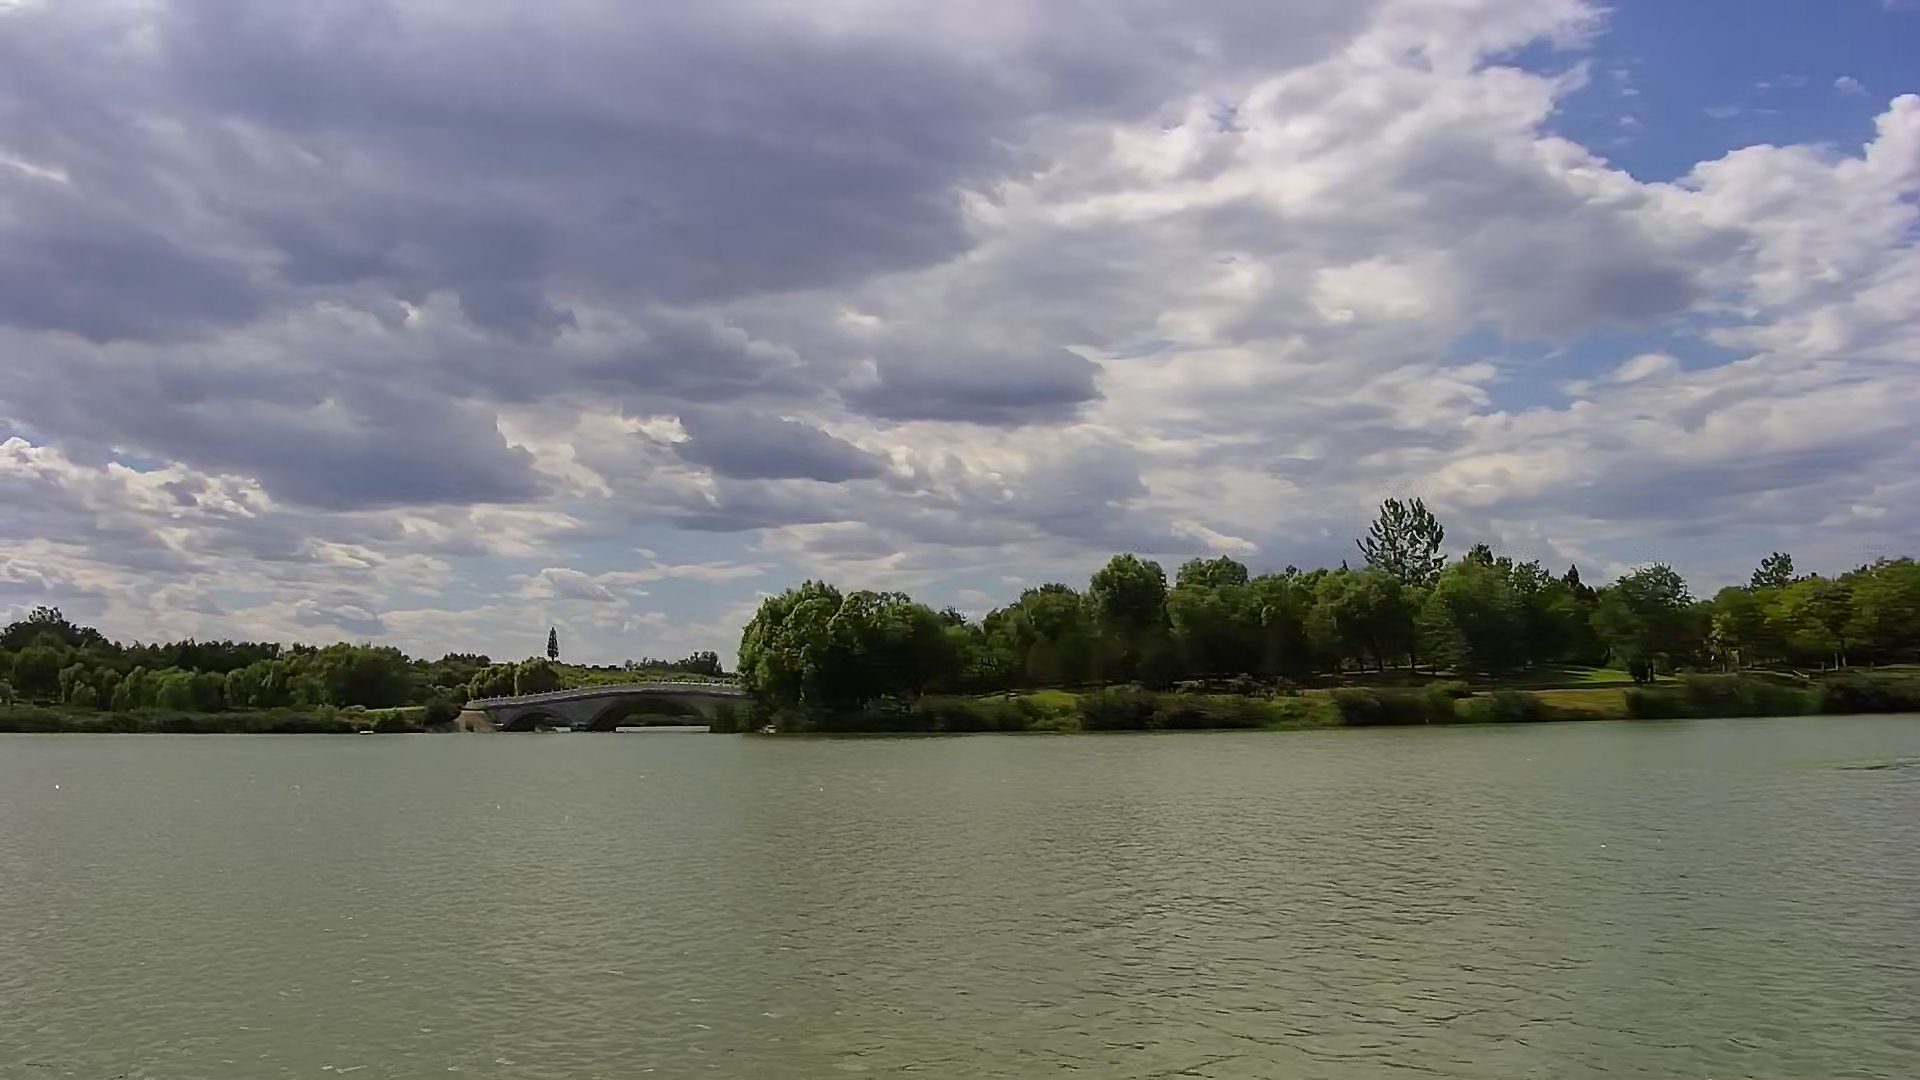bridge: (506, 678, 749, 731)
